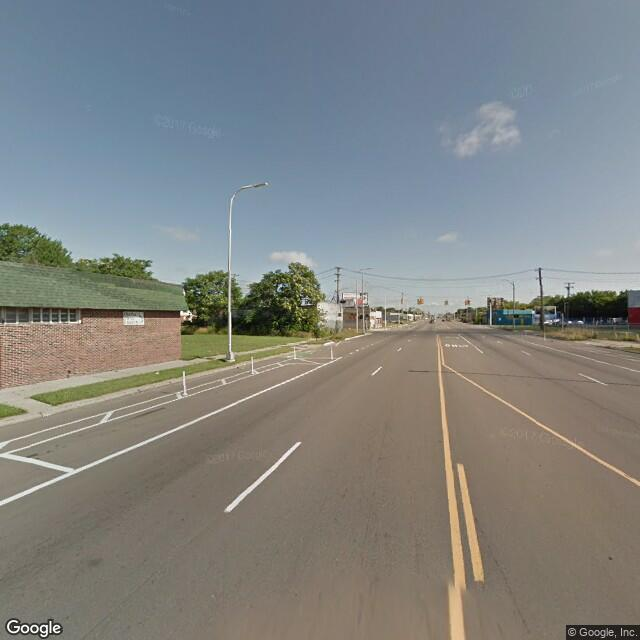litter: (153, 369, 160, 374)
